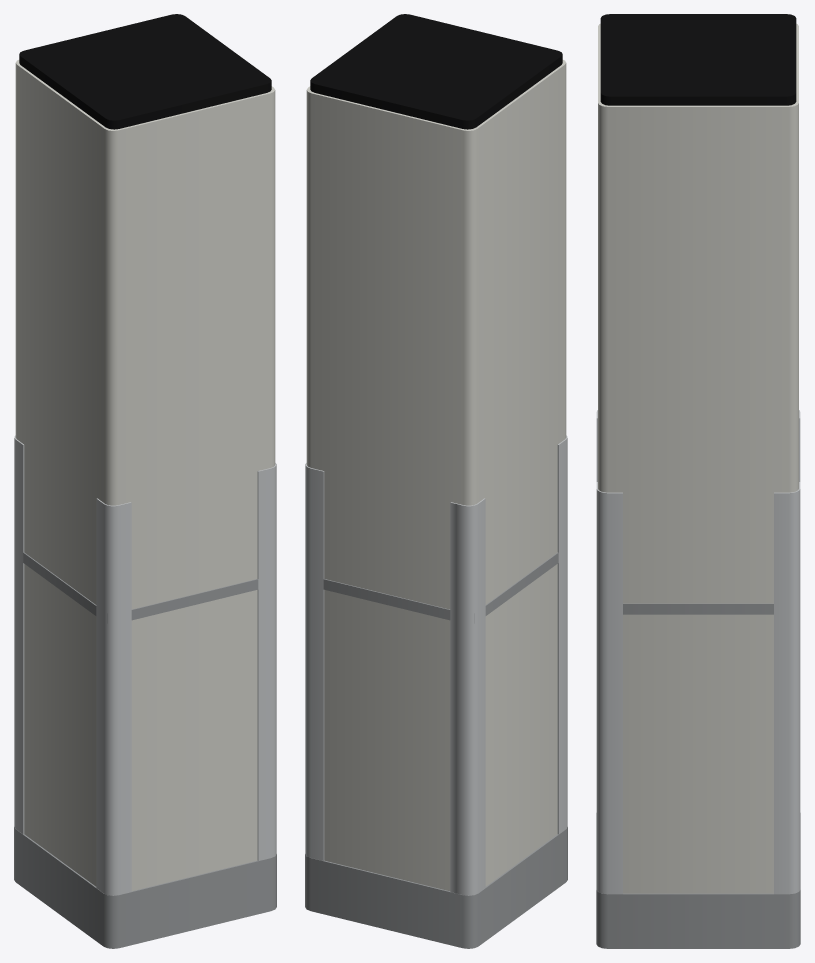
Rendered from gteki_column_square_600.glb.
The picture shows the model from 3 angles, left to right: view 1: azimuth 30°, elevation 25°; view 2: azimuth 150°, elevation 25°; view 3: azimuth 270°, elevation 25°; orthographic projection. The views are drawn at different scales.
Visible parts, largest first — view 1: VIS_body; view 2: VIS_body; view 3: VIS_body.
Boxes of the visible parts, x1=… form: VIS_body: x1=14, y1=14, x2=276, y2=948; VIS_body: x1=305, y1=14, x2=567, y2=948; VIS_body: x1=596, y1=14, x2=800, y2=948.
Size of what is drawn, in the model's own units: 0.61 by 2.8 by 0.61.
1 material, 1 textured.
